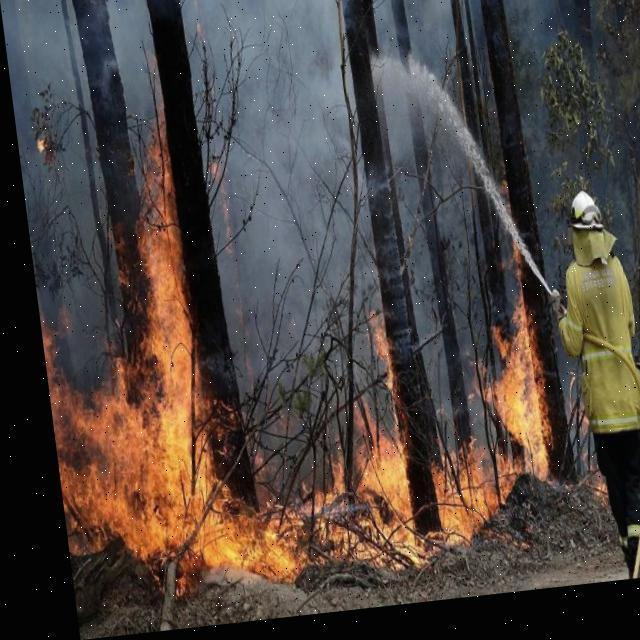Fire: (18, 132, 275, 604), (388, 180, 547, 558), (270, 315, 406, 579), (632, 331, 639, 435)
